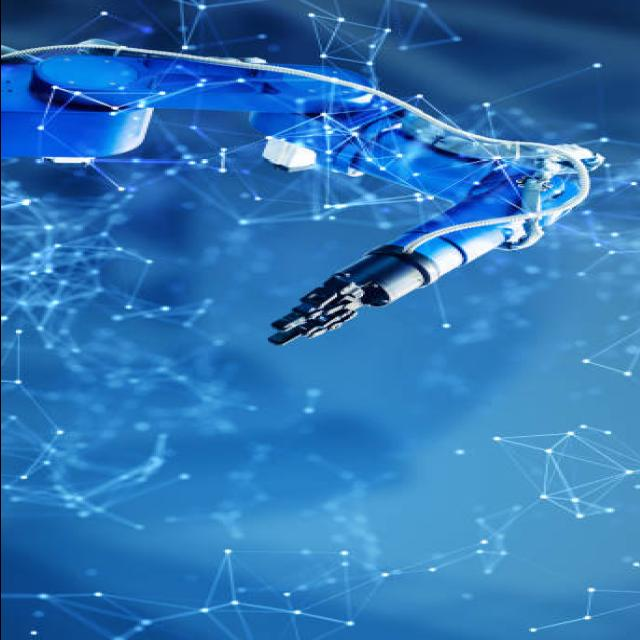Robotic-arm: (0, 41, 614, 349)
